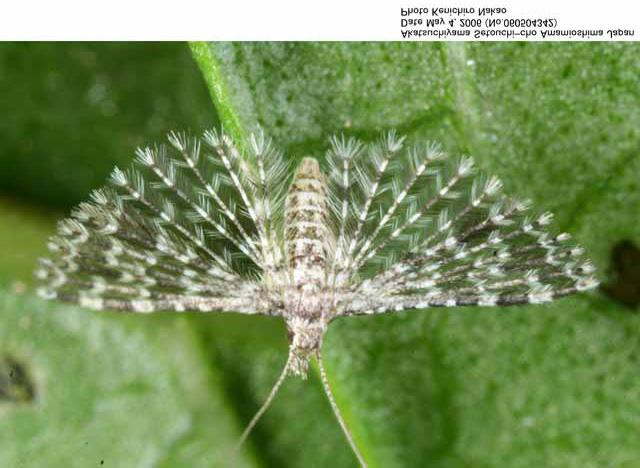Alucitidae: (21, 120, 599, 466)
moth: (23, 122, 601, 468)
